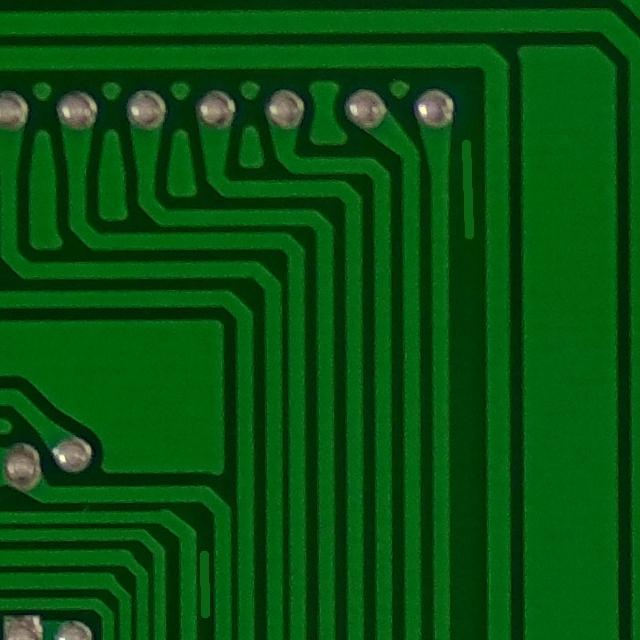spurious_copper: (440, 118, 488, 246), (190, 535, 222, 636)
